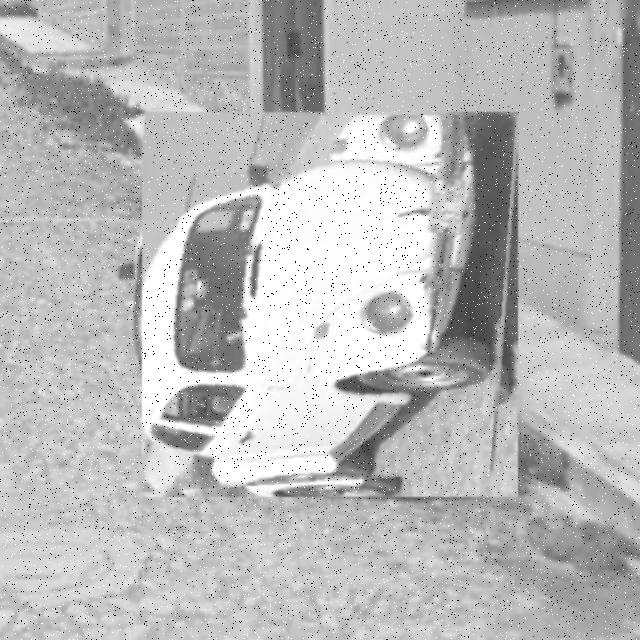car: (143, 116, 523, 495)
